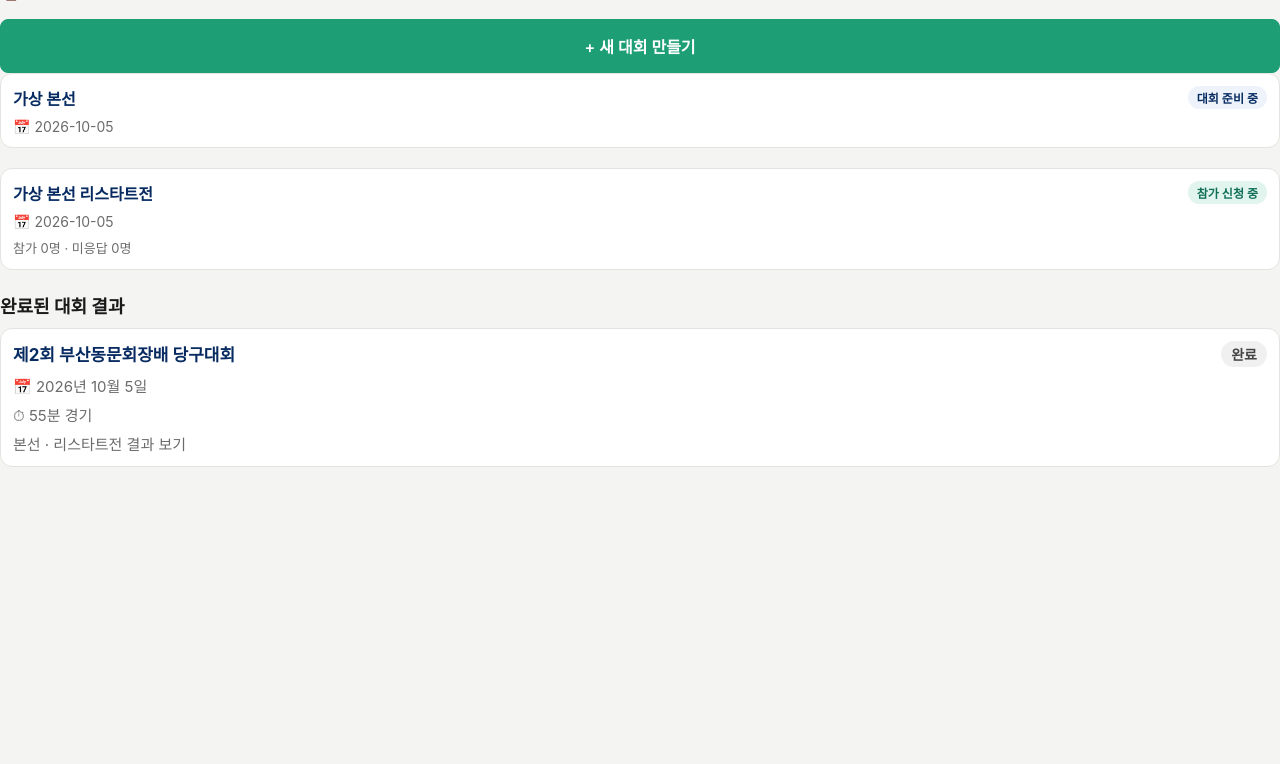
Test: 1차 탈락자와 본선 8강 탈락자 표시 구분 › 리스타트 1차전 대상자는 본선 1차 패자 8명뿐이고, 8강 탈락자는 별도 "합류" 영역에만 이름이 나온다
Click the text "가상 본선": (44,98) [13, 86, 76, 110]
(page scrolled)
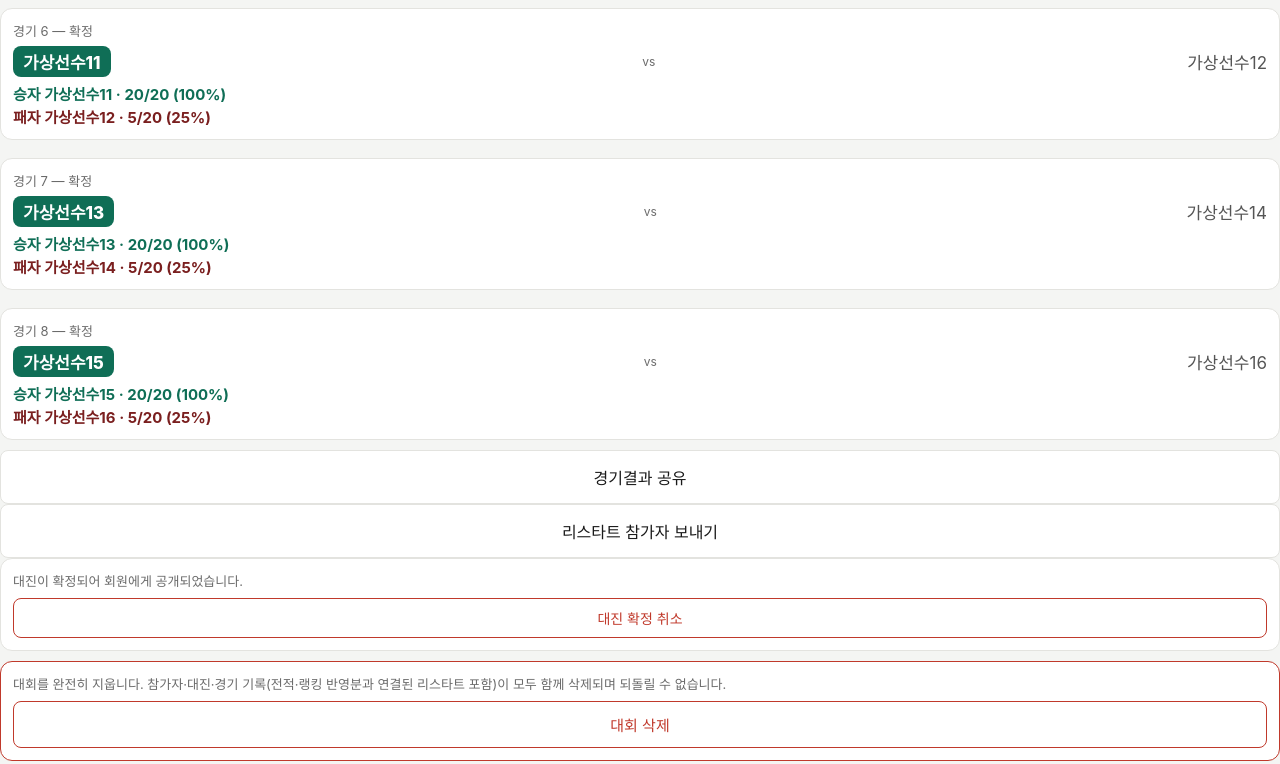
Click the button "리스타트 참가자 보내기": (640,531) [0, 504, 1279, 558]
(page scrolled)
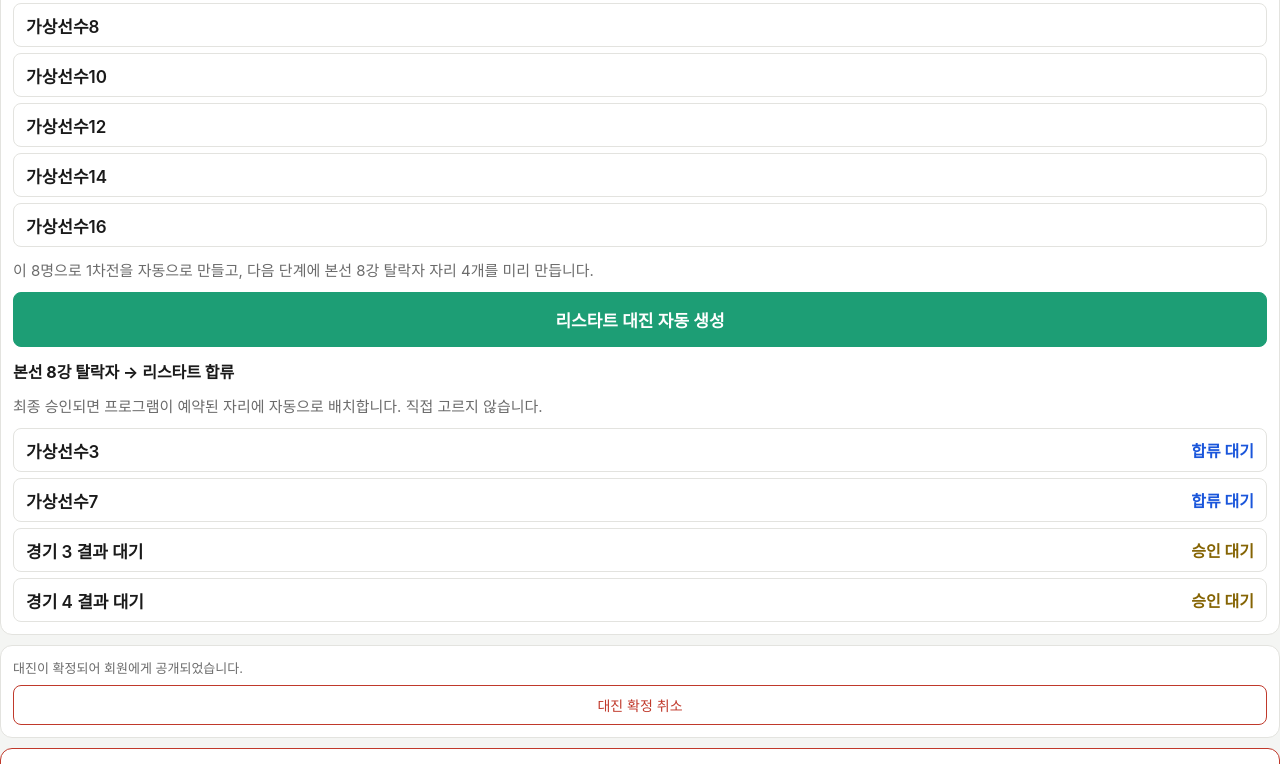
Expected: the text "본선 8강 탈락자 → 리스타트 합류" is shown, [13, 362, 234, 382]
Expected: the text "가상선수3" is shown once, [26, 442, 99, 462]
Expected: the text "가상선수7" is shown once, [26, 492, 98, 512]
